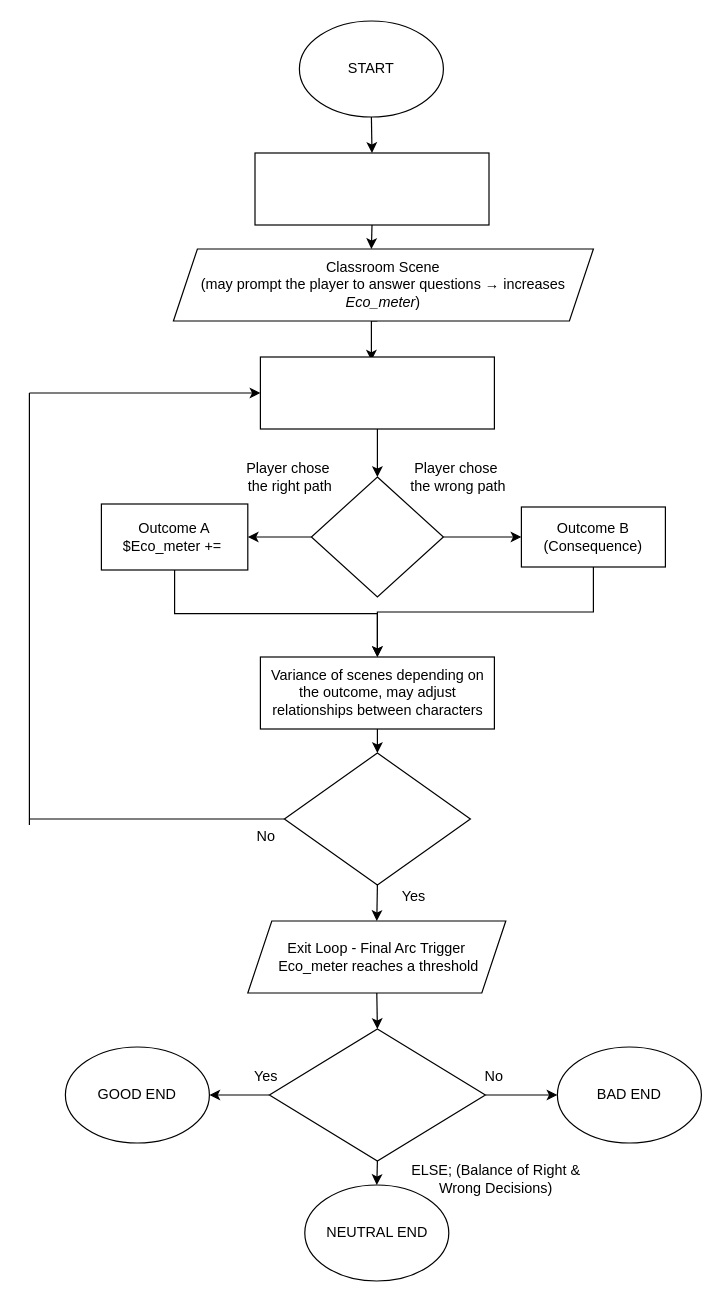
Image size: 722x1302. Some labels were removed from this diagram. Each missing label, with the centre of its shape:
"A passage of insightful narrative before making a significant choice." belongs at (376,392).
"Action" belongs at (376,536).
"Environmental conflict gets Addressed early on" belongs at (371,188).
"Player reached sufficient points?" belongs at (376,1094).
"Reached the final Action?" belongs at (376,818).
